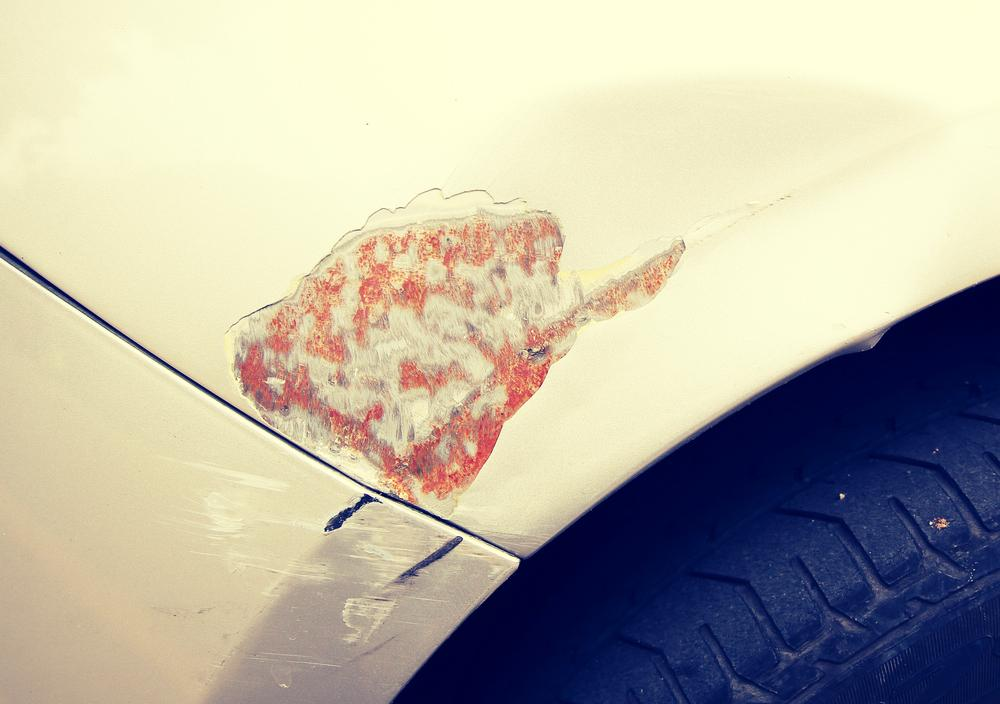scratch: (218, 166, 690, 520), (182, 441, 465, 696)
